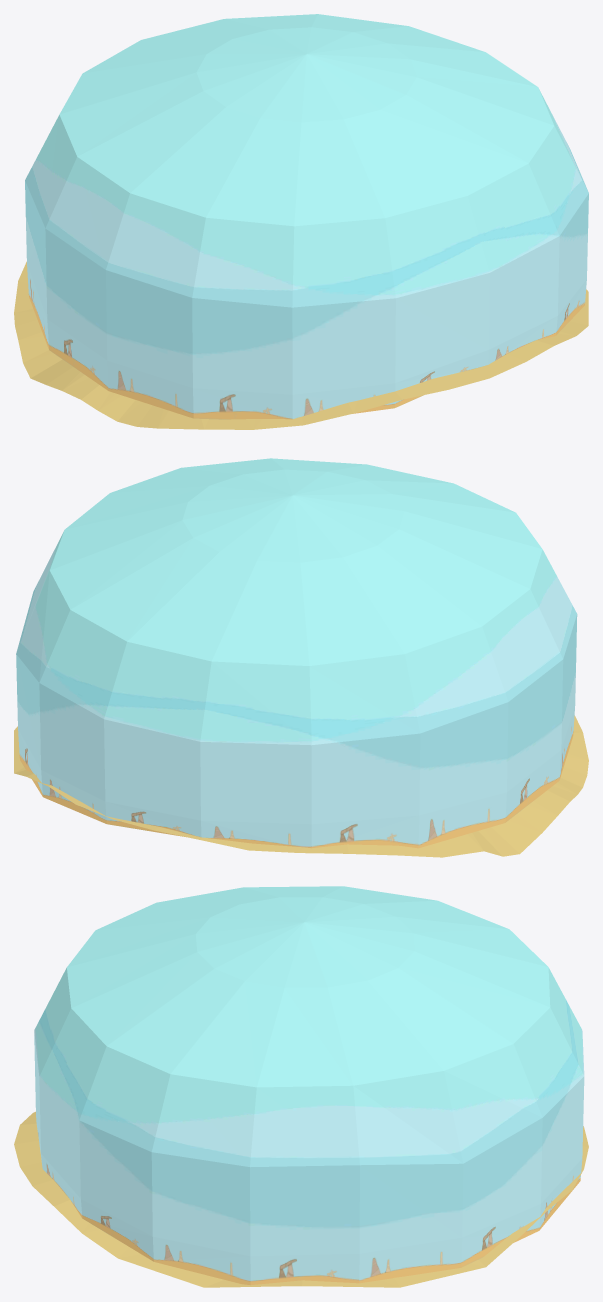
The model's file is Sand.glb.
3 renders of one model, top to bottom at view 1: azimuth 30°, elevation 25°; view 2: azimuth 150°, elevation 25°; view 3: azimuth 270°, elevation 25°, orthographic.
Visible parts, largest first — view 1: Sand_Background; view 2: Sand_Background; view 3: Sand_Background.
Boxes of the visible parts, x1=… form: Sand_Background: x1=14, y1=14, x2=588, y2=429; Sand_Background: x1=14, y1=458, x2=588, y2=857; Sand_Background: x1=14, y1=886, x2=588, y2=1287.
Size of the model in its own units: 92.77 by 50.03 by 94.01.
Materials: 1 (1 with a texture image).
